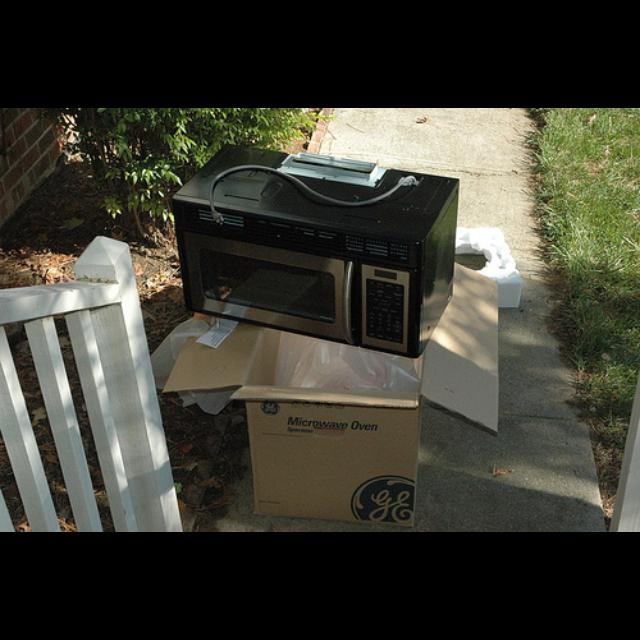Microwave: (169, 141, 457, 360)
